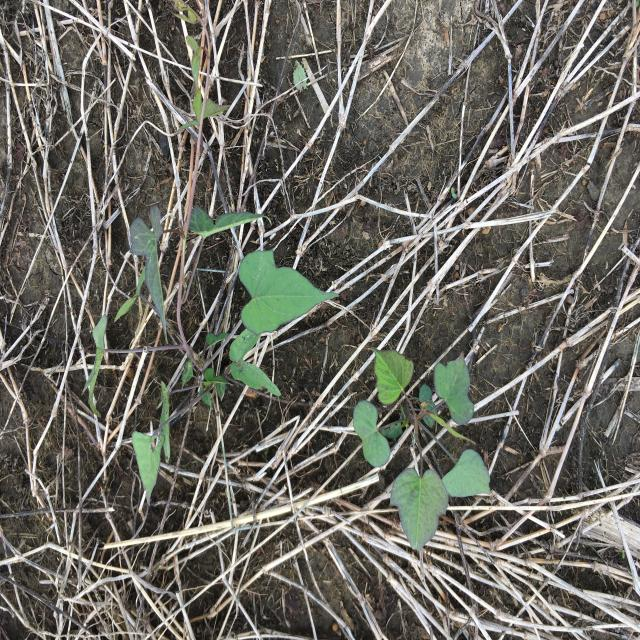MorningGlory: (81, 1, 340, 509), (353, 346, 494, 555)
